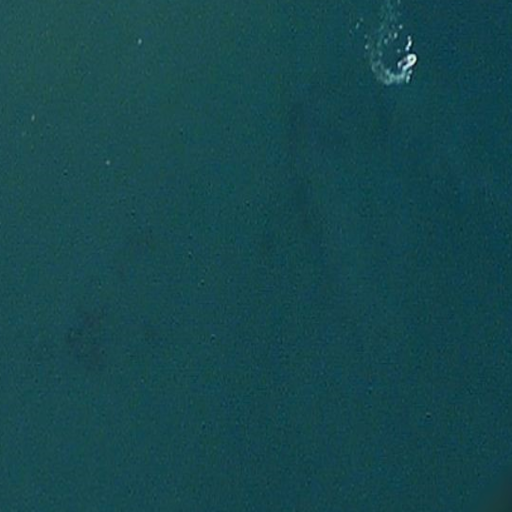ship: (394, 53, 418, 72)
